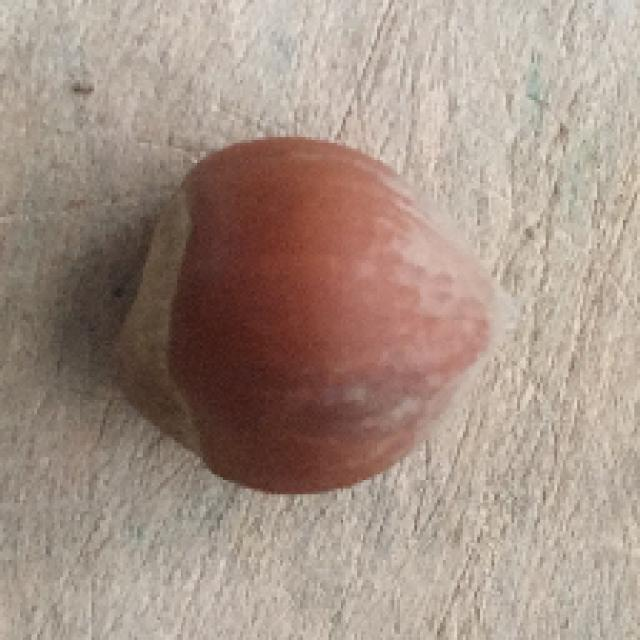qualityHazelnut: (119, 136, 521, 491)
